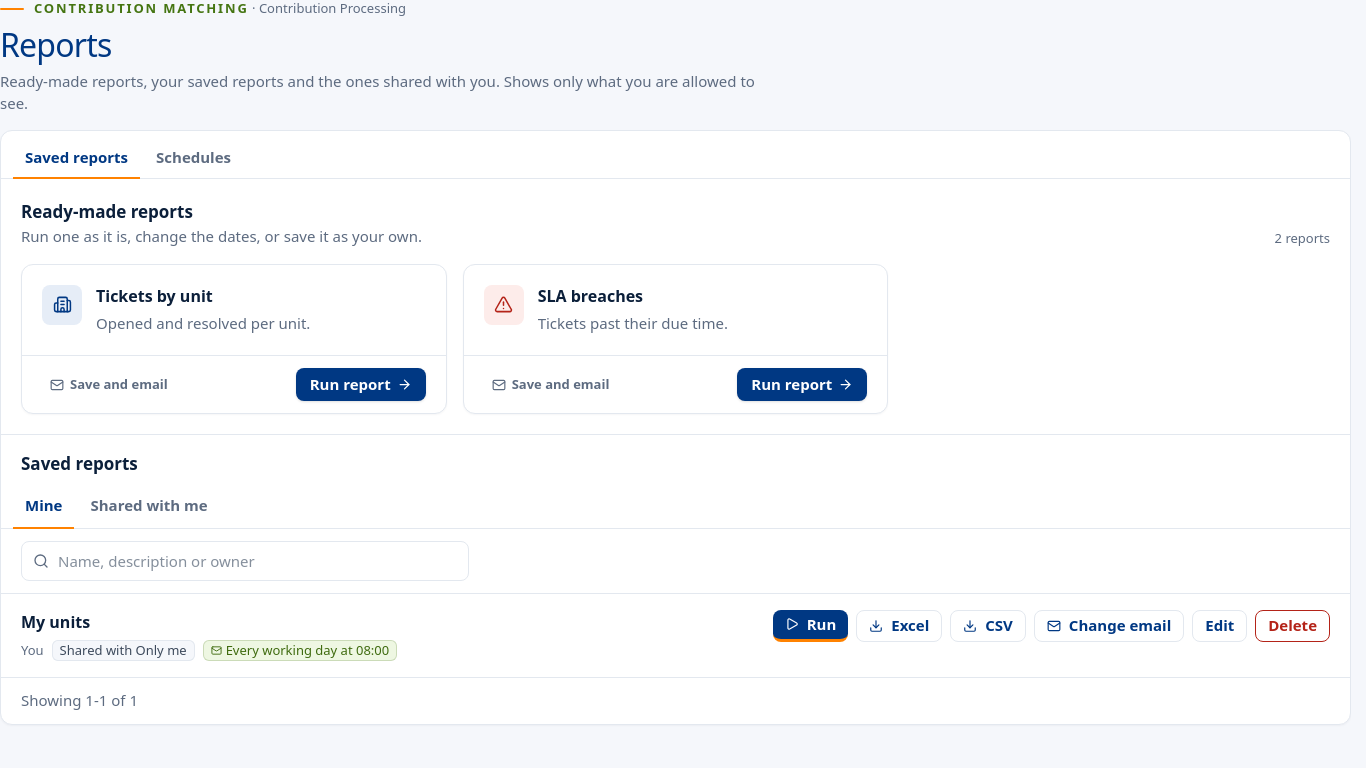
Reports: saved reports › “Email me this report” opens the add dialog with the report chosen, or the existing schedule
The image size is (1366, 768).
Click the tab "Shared with me" at coordinates (149, 507), box [78,485,220,529]
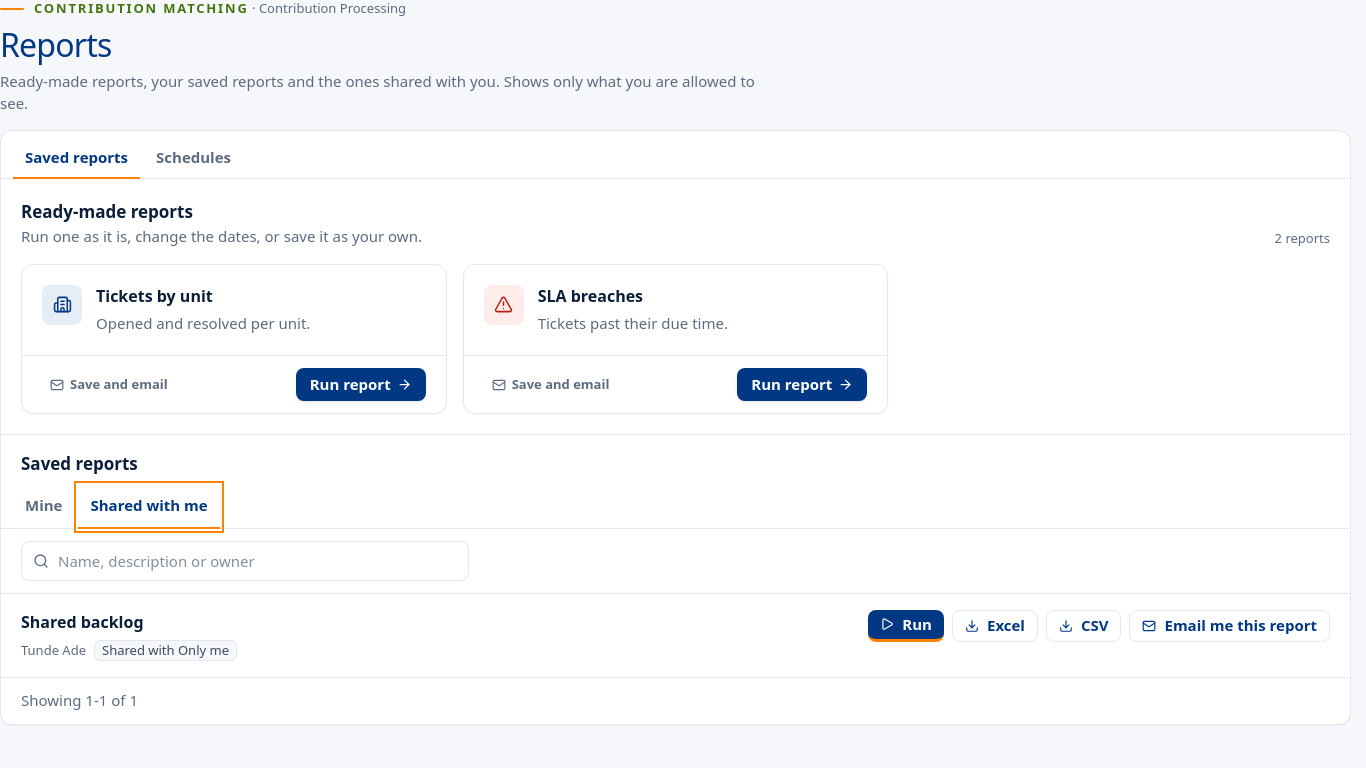
Expected: the list item with test id "report-Shared backlog" shows "Tunde Ade", [21,641,86,659]
Expected: the button "Delete" is gone
Click the button "Email me this report" at coordinates (1230, 626), box [1130,610,1330,642]
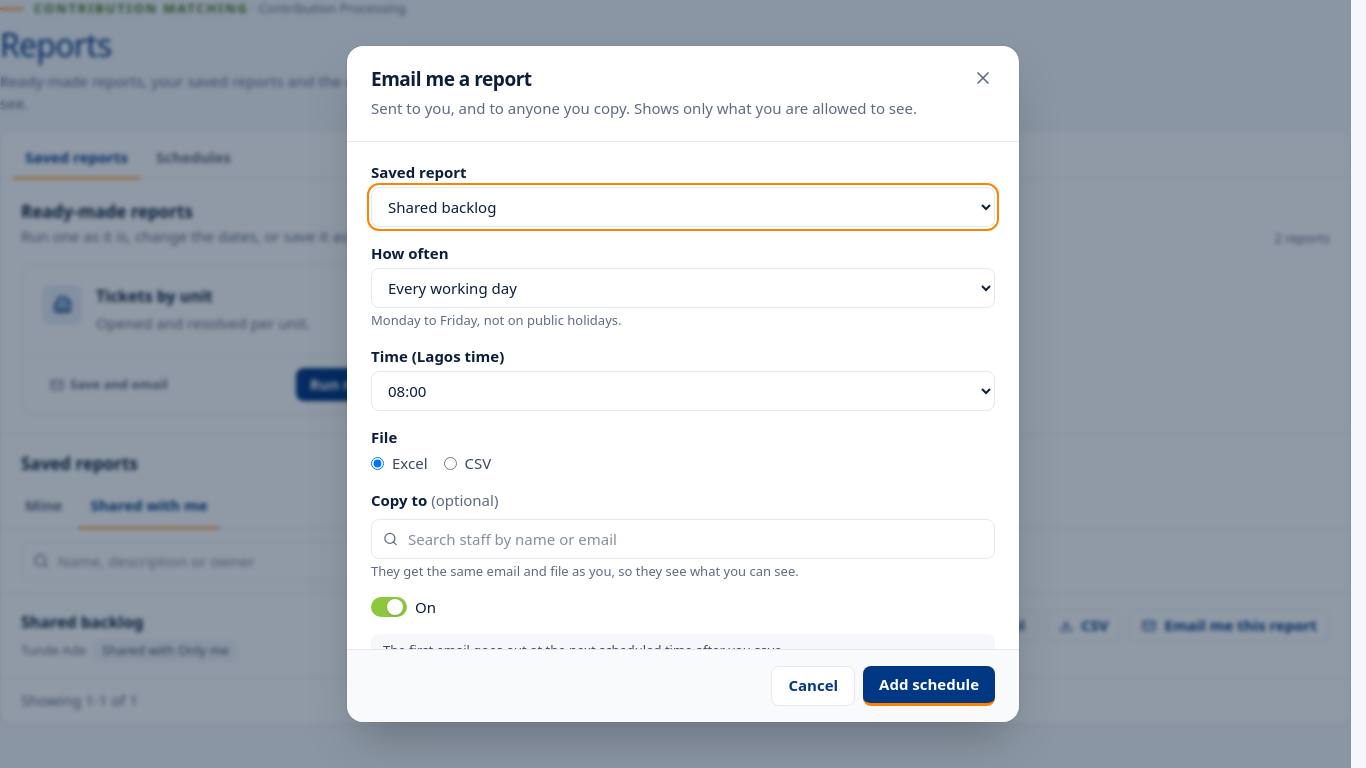
Expected: the dropdown labelled "Saved report" shows "Shared backlog", [371,187,995,227]
Click the button "Cancel" at coordinates (813, 686), box [772,666,855,706]
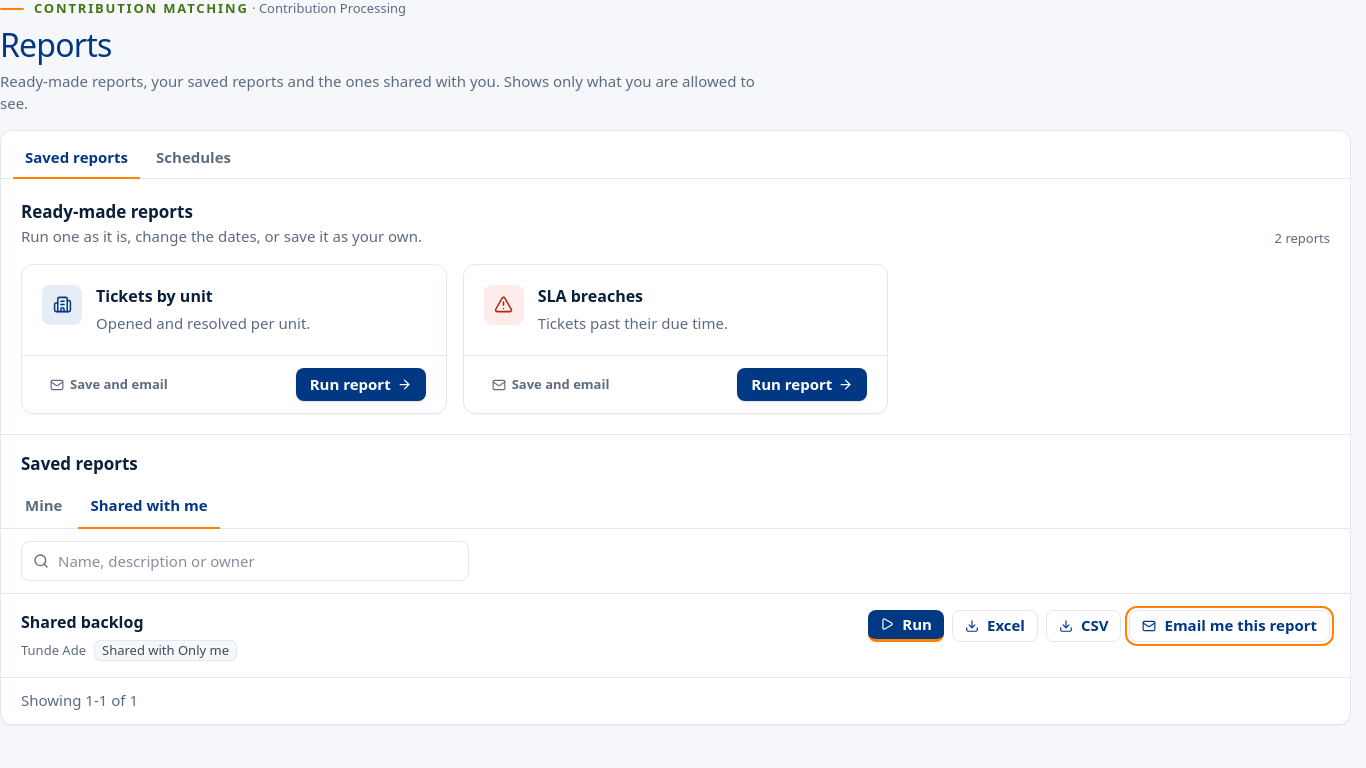
Click the tab "Mine" at coordinates (44, 507), box [13,485,74,529]
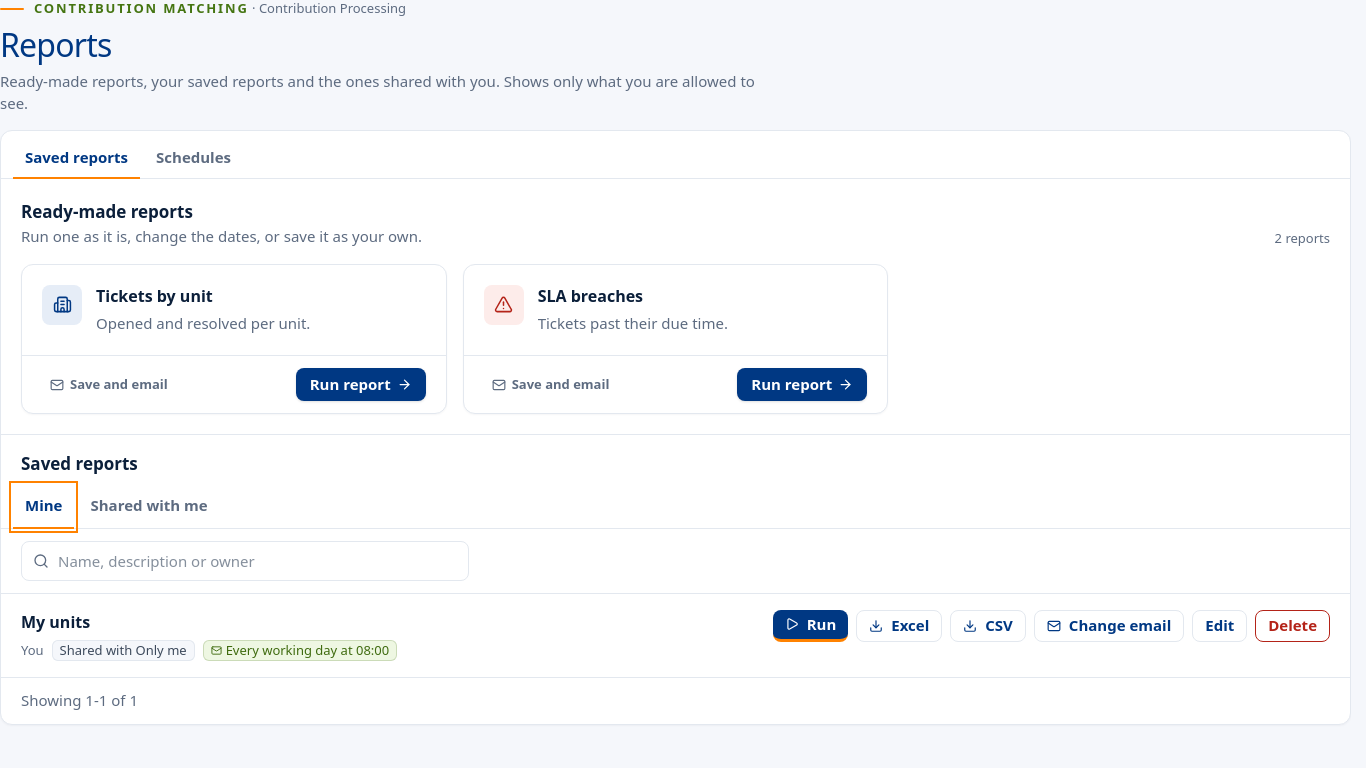
Expected: the list item with test id "report-My units" shows "Every working day at 08:00", [226,641,389,659]
Click the button "Change email" at coordinates (1109, 626), box [1034,610,1184,642]
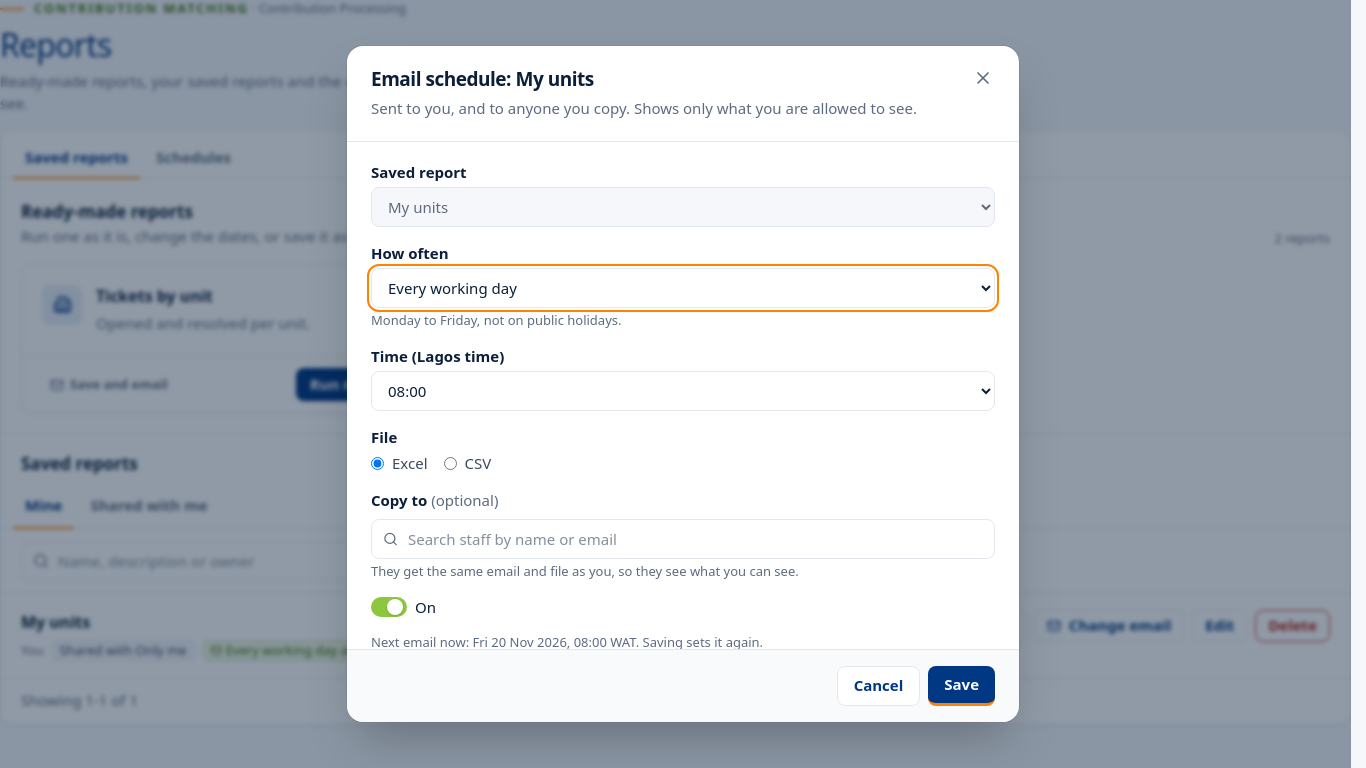
Expected: the dialog "Email schedule: My units" is shown, [347,46,1019,722]
